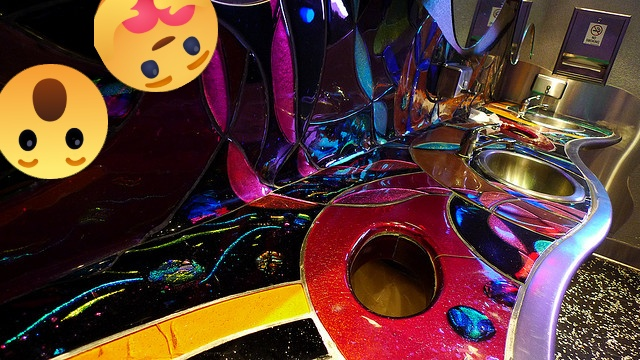care: (94, 0, 218, 92)
wow: (0, 64, 108, 179)
